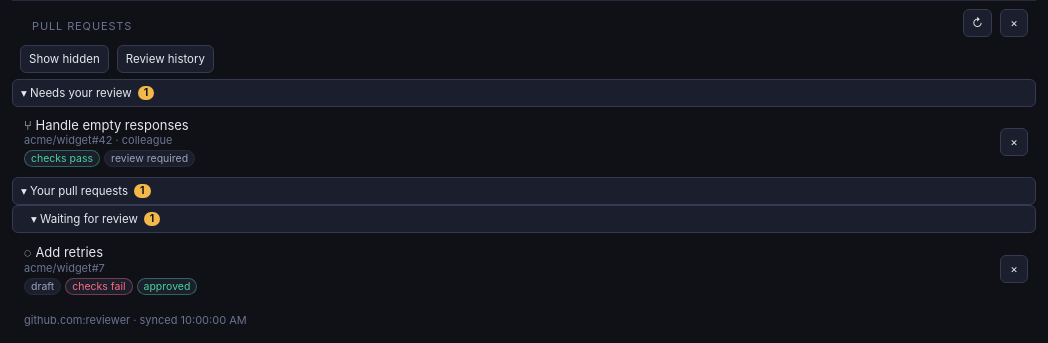
Test: lists your own pull requests with their status, separately from review requests
Check: the button titled "Add retries" shows "acme/widget#7", box [22,239,996,299]
Check: the element titled "Add retries" does not show "reviewer"
Click the button "▾ Your pull requests 1".
click(79, 191)  # box [12,177,1036,205]
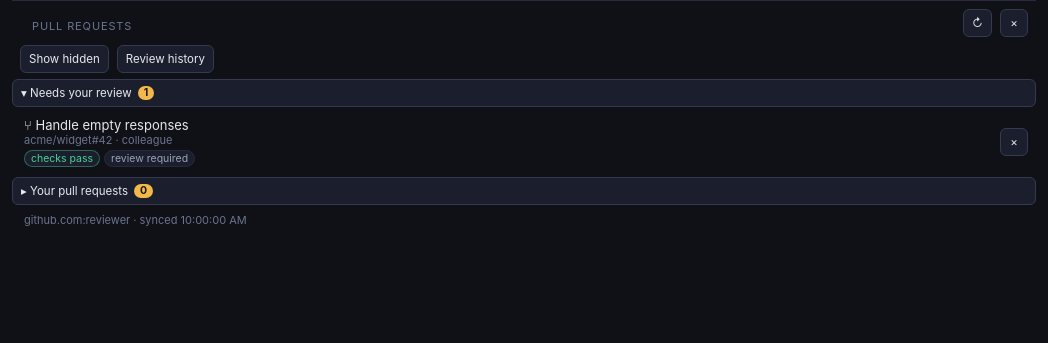
Check: the button titled "Handle empty responses" is shown, box [22,113,996,171]
Check: the button titled "Add retries" is gone
